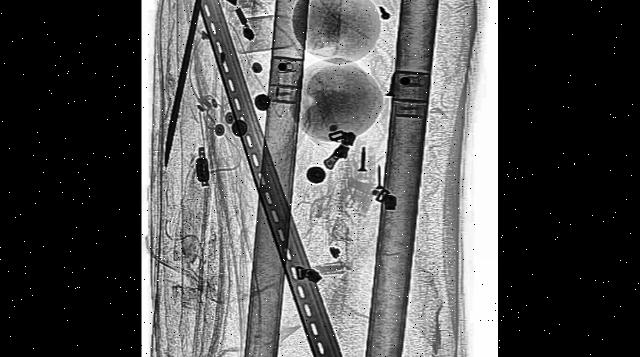Knife: (157, 0, 236, 170)
